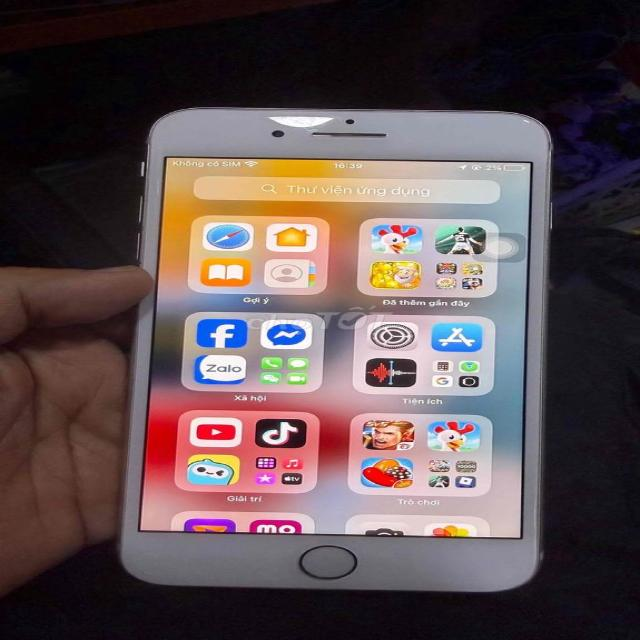scratch: (140, 123, 153, 176), (509, 112, 539, 125)
screen_defect: (267, 110, 338, 134)
